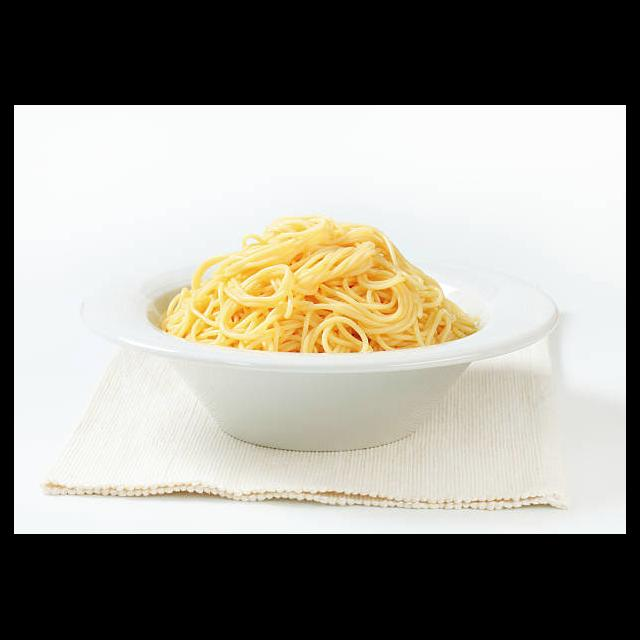noodles: (156, 214, 479, 354)
